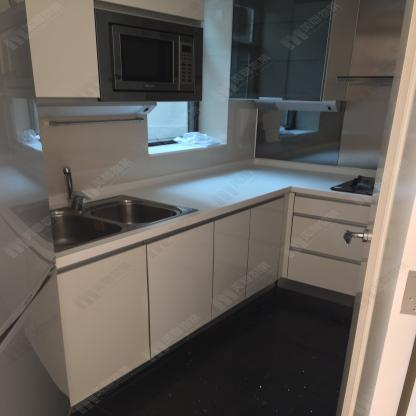Faucet: (57, 163, 95, 216)
Microwave: (94, 9, 204, 103)
Sink: (49, 192, 202, 260)
Stove: (324, 174, 377, 198)
